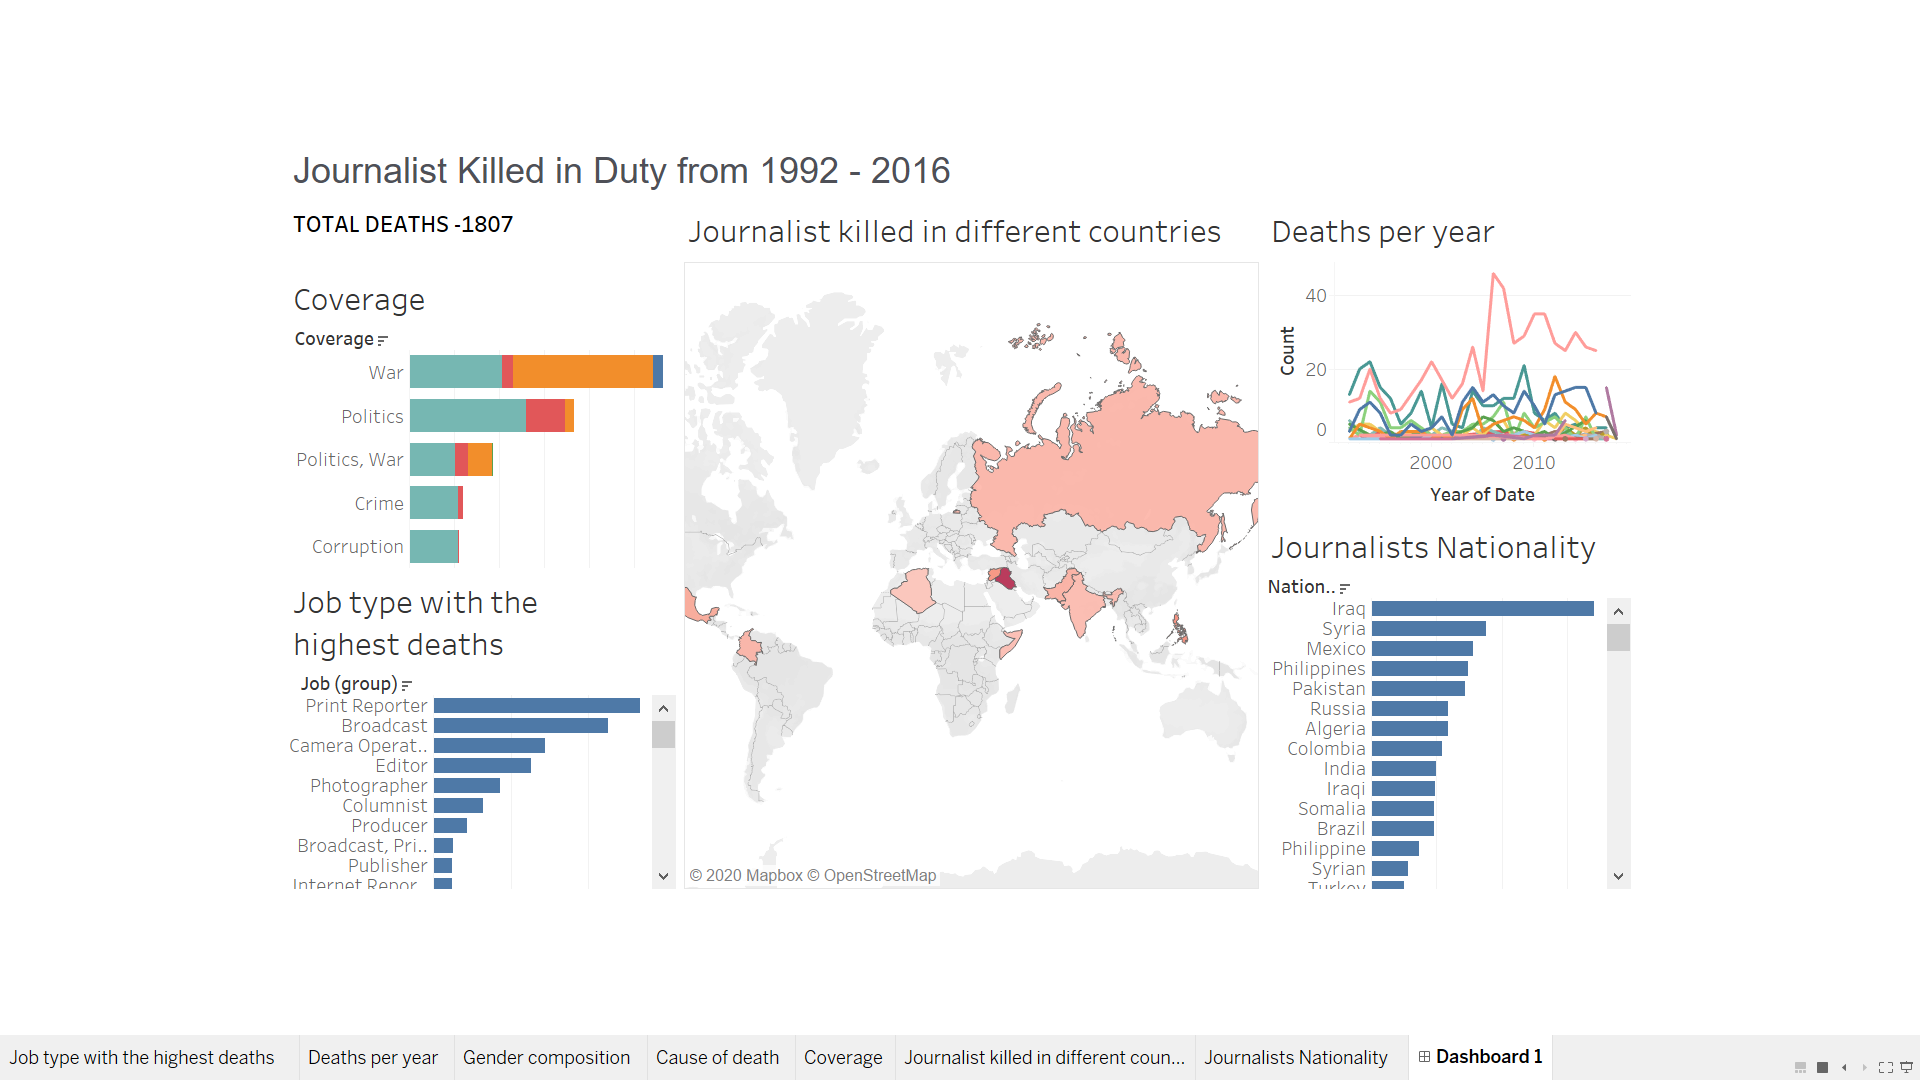

What the dashboard file says about the page in this screenshot:
{"tool":"tableau","page":{"name":"Dashboard 1","canvas":[1366,768],"ordinal":0},"visuals":[{"type":"worksheet","box":[0,0,1366,768]},{"type":"worksheet","param":"horz","box":[8,8,1350,752]},{"type":"worksheet","param":"horz","box":[8,8,1350,752]},{"type":"worksheet","param":"horz","box":[8,8,1350,752]},{"type":"worksheet","param":"vert","box":[8,8,1350,752]},{"type":"worksheet","box":[8,8,1350,60]},{"type":"worksheet","box":[8,68,1350,692]},{"type":"worksheet","box":[8,68,394.8,68]},{"type":"worksheet","title":"Journalist killed in different countries","mark":"Automatic","box":[402.8,68,583.2,692]},{"type":"worksheet","title":"Deaths per year","mark":"Automatic","rows":["cpj-database.csv_FF0AF1C7AD934C2592FFF516C82D606A"],"cols":["Date"],"box":[986,68,372,316]},{"type":"worksheet","title":"Coverage","mark":"Automatic","rows":["Coverage"],"cols":["cpj-database.csv_FF0AF1C7AD934C2592FFF516C82D606A"],"box":[8,136,394.8,303]},{"type":"worksheet","title":"Journalists Nationality","mark":"Automatic","rows":["Nationality"],"cols":["cpj-database.csv_FF0AF1C7AD934C2592FFF516C82D606A"],"box":[986,384,372,376]},{"type":"worksheet","title":"Job type with the highest deaths","mark":"Automatic","cols":["cpj-database.csv_FF0AF1C7AD934C2592FFF516C82D606A"],"box":[8,439,394.8,321]}]}

Visuals, with their boxes on the page's 1366x768 design canvas (x1, y1, x2, y2). These are canvas units, not pixel positions in the 1920x1080 screenshot, which may show the page scaled, cropped or inside an application window:
worksheet: box(0, 0, 1366, 768)
worksheet: box(8, 8, 1358, 760)
worksheet: box(8, 8, 1358, 760)
worksheet: box(8, 8, 1358, 760)
worksheet: box(8, 8, 1358, 760)
worksheet: box(8, 8, 1358, 68)
worksheet: box(8, 68, 1358, 760)
worksheet: box(8, 68, 403, 136)
"Journalist killed in different countries" worksheet: box(403, 68, 986, 760)
"Deaths per year" worksheet: box(986, 68, 1358, 384)
"Coverage" worksheet: box(8, 136, 403, 439)
"Journalists Nationality" worksheet: box(986, 384, 1358, 760)
"Job type with the highest deaths" worksheet: box(8, 439, 403, 760)
